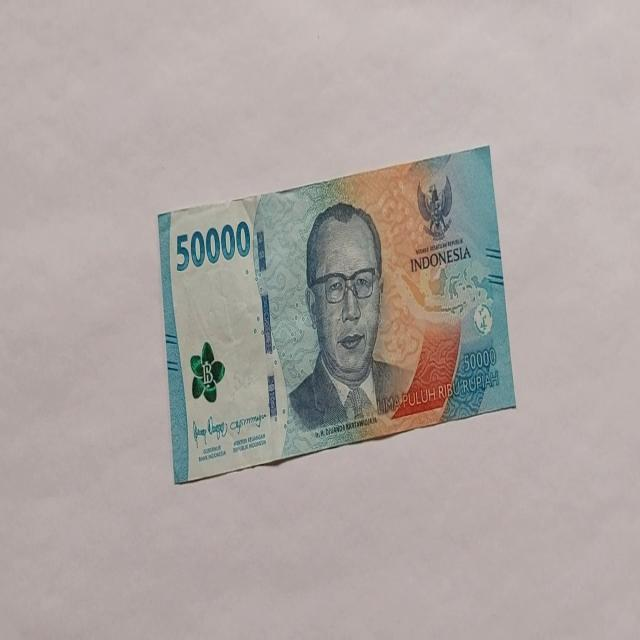lima puluh ribu rupiah: (157, 143, 516, 484), (285, 200, 406, 436)
